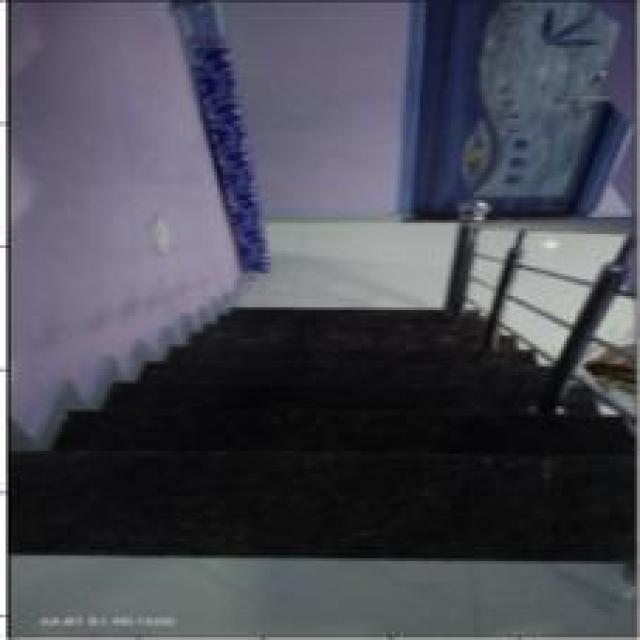downstair: (74, 328, 520, 537)
